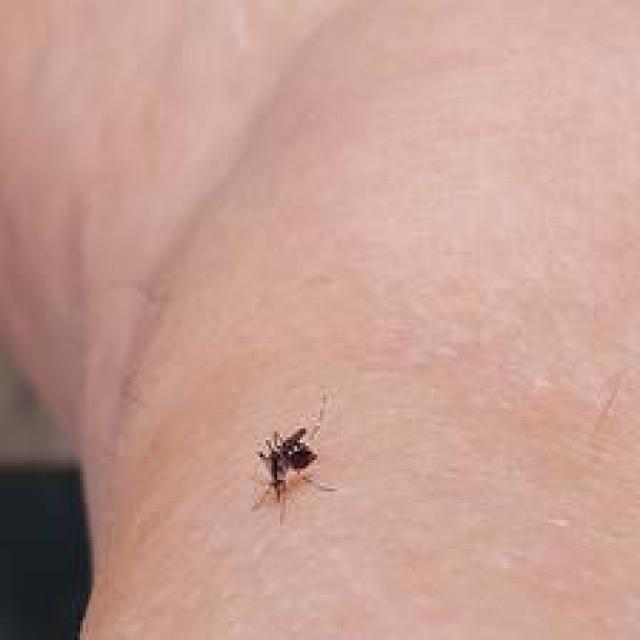Aedes albopictus: (249, 393, 337, 524)
